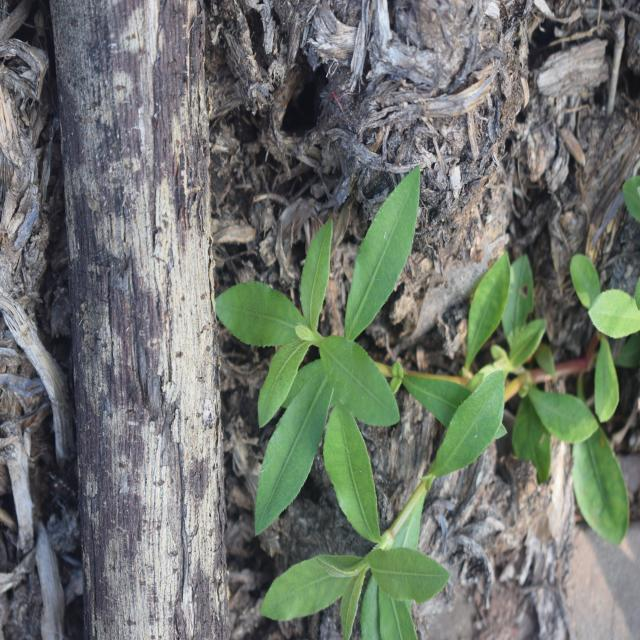Alligatorweed: (225, 162, 511, 478), (250, 447, 470, 640)
